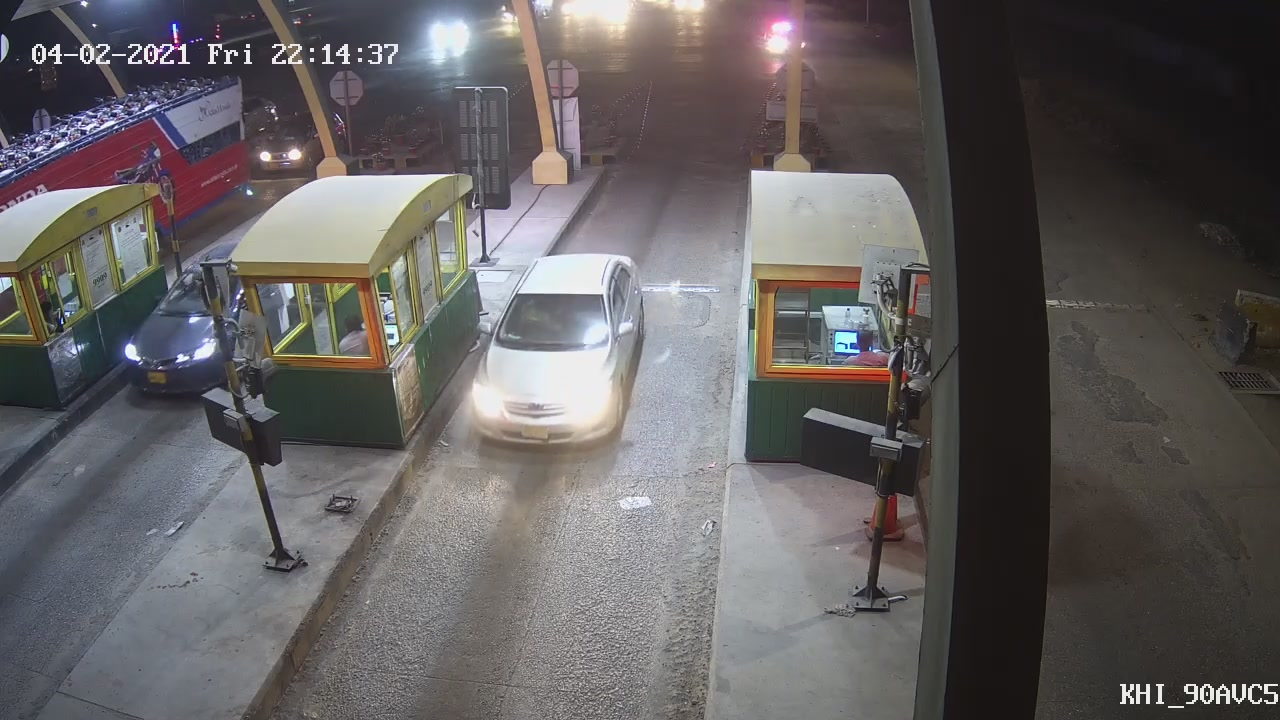F1: (455, 252, 648, 456)
